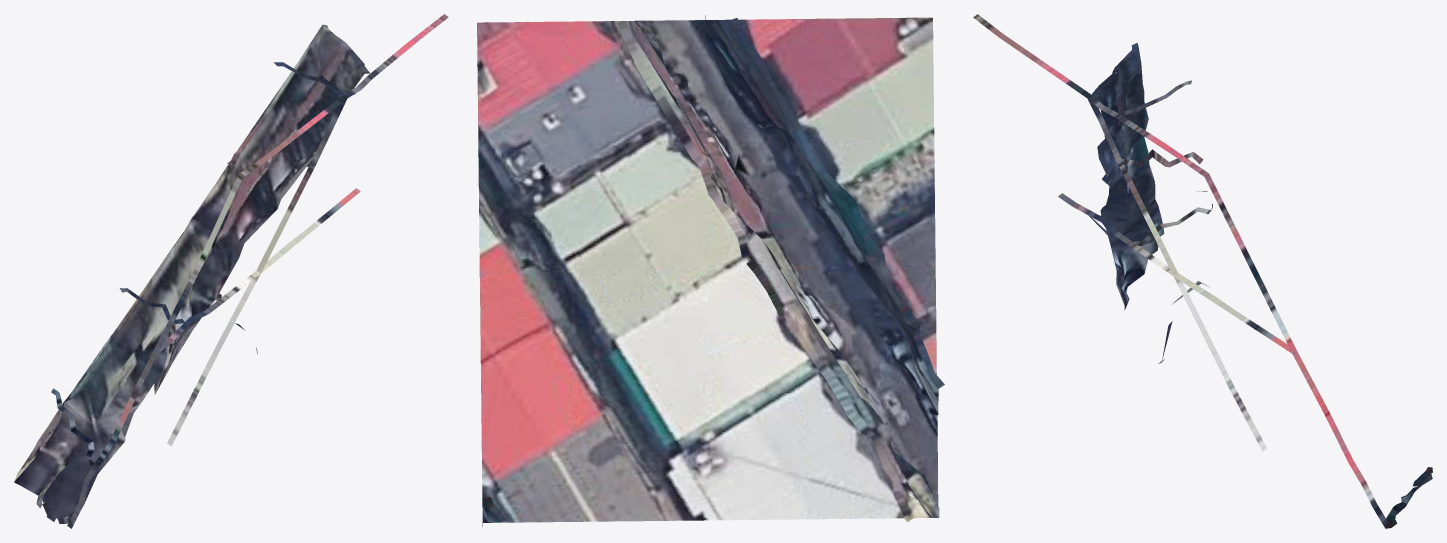
3 views of the same model, side by side, from view 1: azimuth 30°, elevation 25°; view 2: azimuth 150°, elevation 25°; view 3: azimuth 270°, elevation 25° (orthographic). The views are drawn at different scales.
Size of the model in its own units: 40.16 by 37.42 by 36.
Materials: 1 (1 with a texture image).
